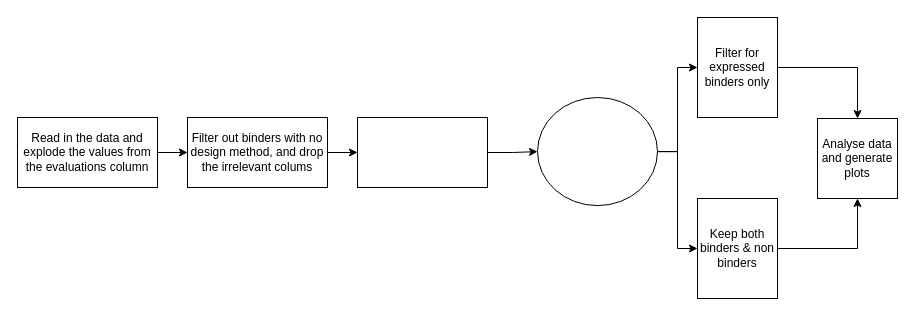
The diagram is 915 pixels wide and 316 high, and some of its shapes have lost their labels. Here are the shapes that lost their labels. From the top down, the centre of each, then its label:
At (422,152): "Get an overview over all the metrics".
At (597,151): "Define the relevant metrics you want to inspect".
